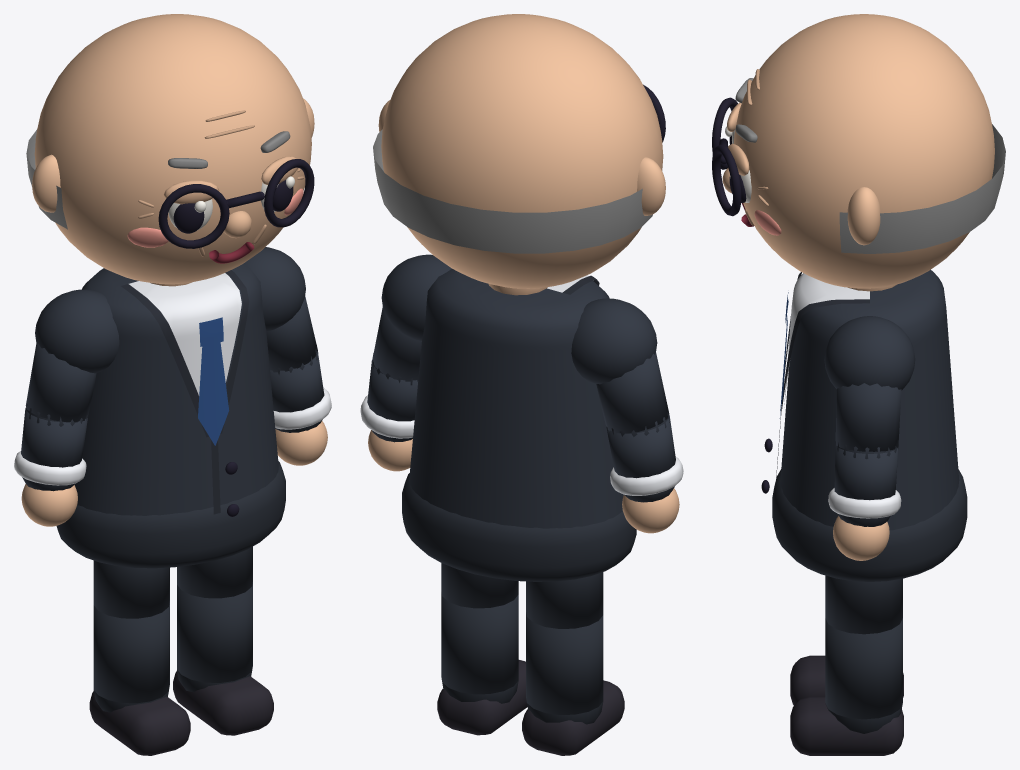
The model's file is ch_chair.fbx.
3 views of the same model, side by side, from view 1: azimuth 30°, elevation 25°; view 2: azimuth 150°, elevation 25°; view 3: azimuth 270°, elevation 25° (orthographic).
Visible parts, largest first — view 1: ch_chair; view 2: ch_chair; view 3: ch_chair.
Part boxes in pixels (left/top/right/bottom): ch_chair: left=14, top=14, right=331, bottom=755; ch_chair: left=360, top=14, right=683, bottom=755; ch_chair: left=712, top=14, right=1005, bottom=755.
Size of the model in its own units: 0.7164 by 1.55 by 0.5889.
